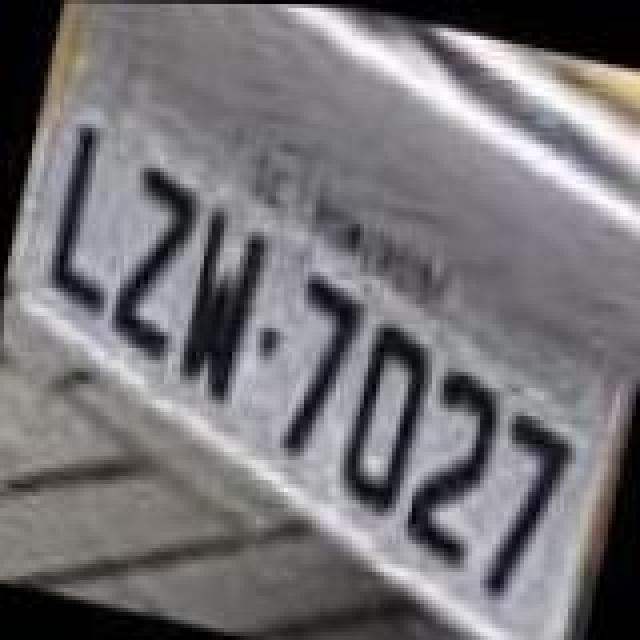2: (396, 356, 508, 576)
7: (466, 394, 586, 610), (262, 260, 374, 468)
L: (34, 114, 150, 322)
O: (330, 310, 438, 518)
W: (164, 194, 276, 410)
Z: (98, 152, 210, 368)
